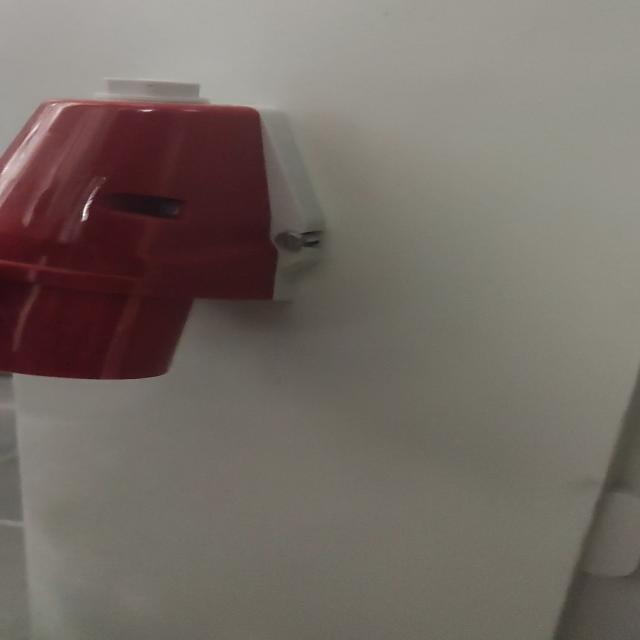400v socket down: (0, 78, 279, 380)
